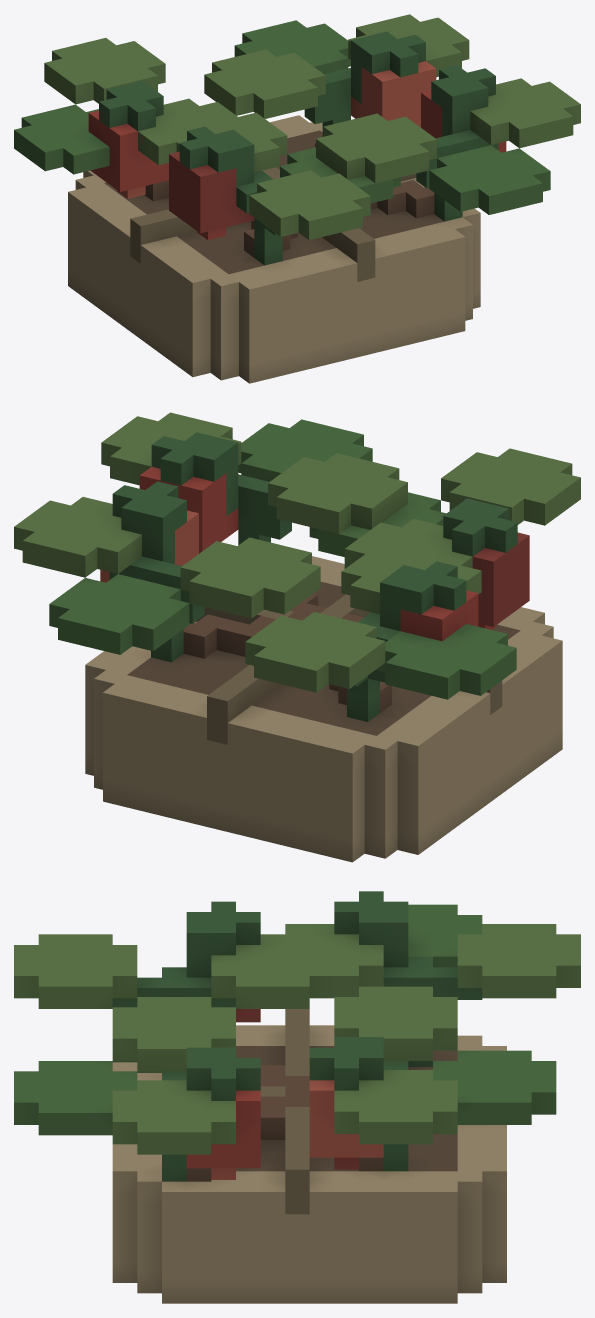
The model's file is wild_strawberry_packed_summer.glb.
3 renders of one model, top to bottom at view 1: azimuth 30°, elevation 25°; view 2: azimuth 150°, elevation 25°; view 3: azimuth 270°, elevation 25°, orthographic. The views are drawn at different scales.
Visible parts, largest first — view 1: VoxelVisual; view 2: VoxelVisual; view 3: VoxelVisual.
Part boxes in pixels (x1=…): VoxelVisual: x1=14, y1=14, x2=580, y2=383; VoxelVisual: x1=14, y1=412, x2=580, y2=862; VoxelVisual: x1=14, y1=891, x2=580, y2=1303.
Size of what is drawn, in the model's own units: 1.5 by 0.6875 by 1.44.
